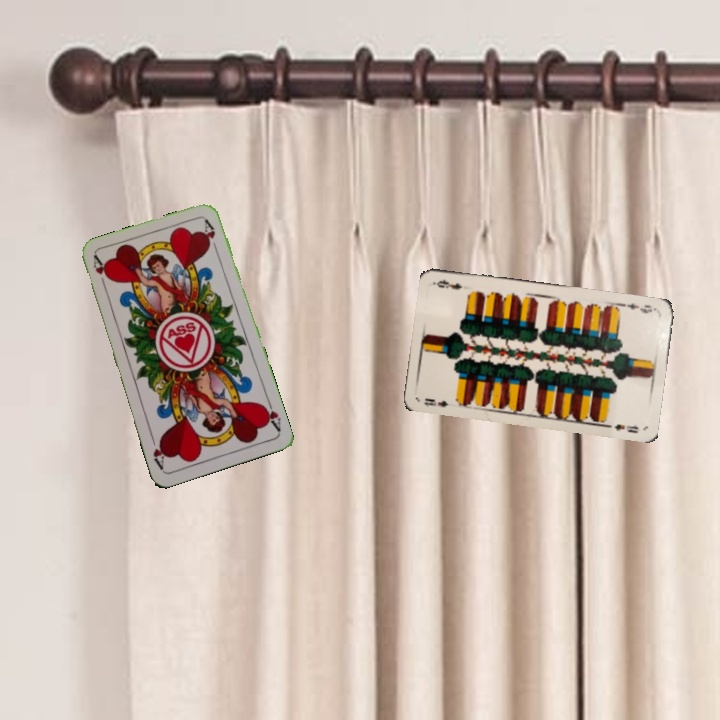E9: (619, 299, 659, 316), (420, 394, 451, 410)
HA: (258, 395, 283, 434), (89, 252, 110, 293)
